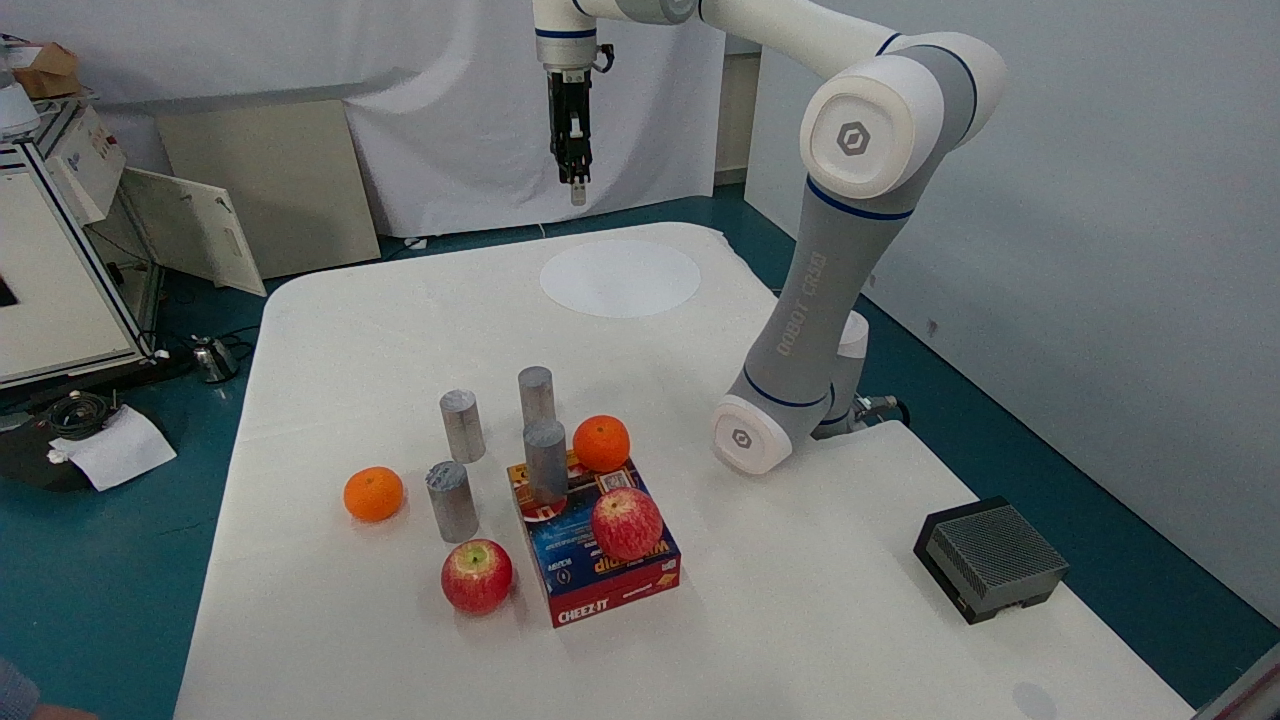apple: (430, 523, 520, 619), (584, 476, 670, 563)
metal rod: (413, 448, 487, 550), (422, 382, 491, 468), (515, 408, 574, 499), (509, 356, 574, 432)
orange: (325, 455, 414, 541), (563, 396, 640, 483)
